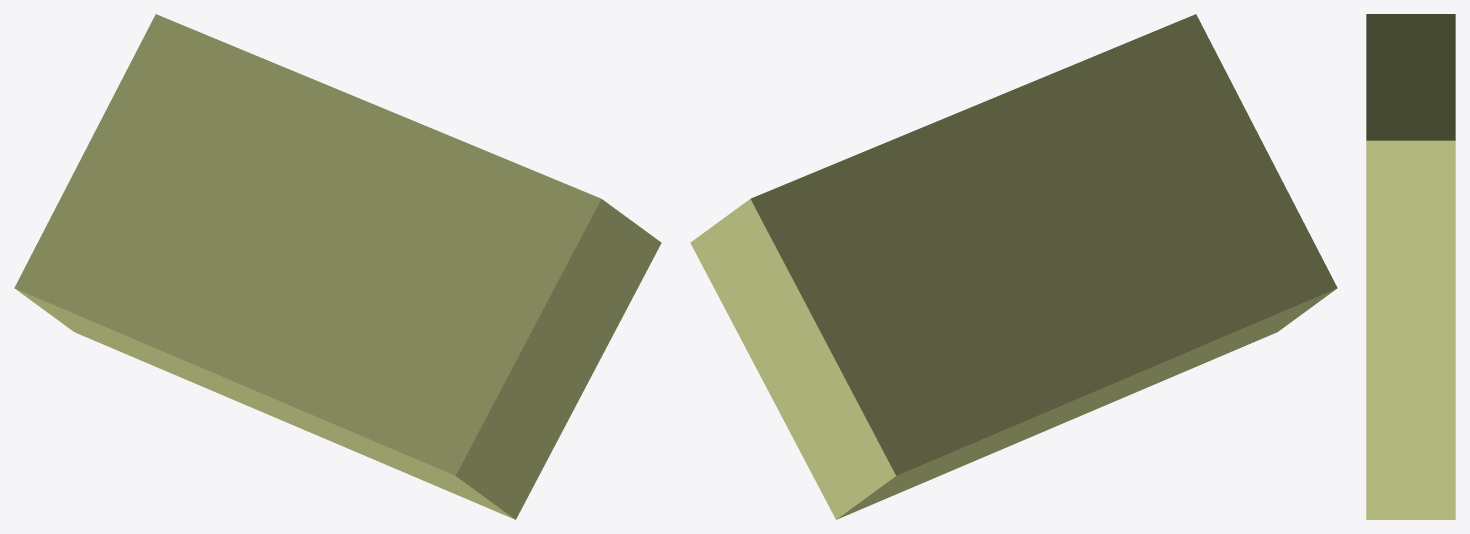
The picture shows the model from 3 angles, left to right: view 1: azimuth 30°, elevation 25°; view 2: azimuth 150°, elevation 25°; view 3: azimuth 270°, elevation 25°; orthographic projection. The views are drawn at different scales.
Visible parts, largest first — view 1: 0_1_2_0_1_1_0_3_0; view 2: 0_1_2_0_1_1_0_3_0; view 3: 0_1_2_0_1_1_0_3_0.
Boxes of the visible parts, <box> form: 0_1_2_0_1_1_0_3_0: <box>14,14,661,519</box>; 0_1_2_0_1_1_0_3_0: <box>690,14,1337,519</box>; 0_1_2_0_1_1_0_3_0: <box>1366,14,1455,519</box>.
Bounding box in the file's own units: 33.82 × 29.45 × 6.
